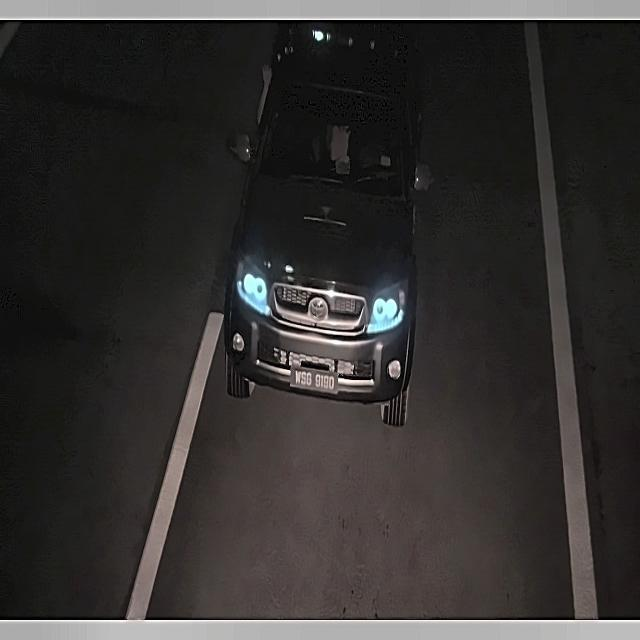car: (286, 360, 343, 398)
